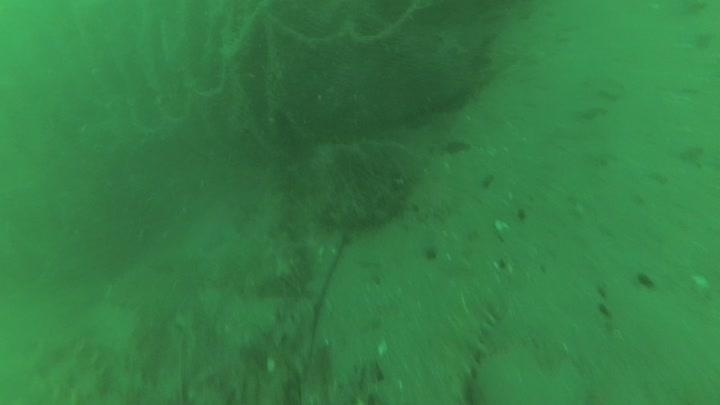holothurian: (429, 287, 504, 405)
